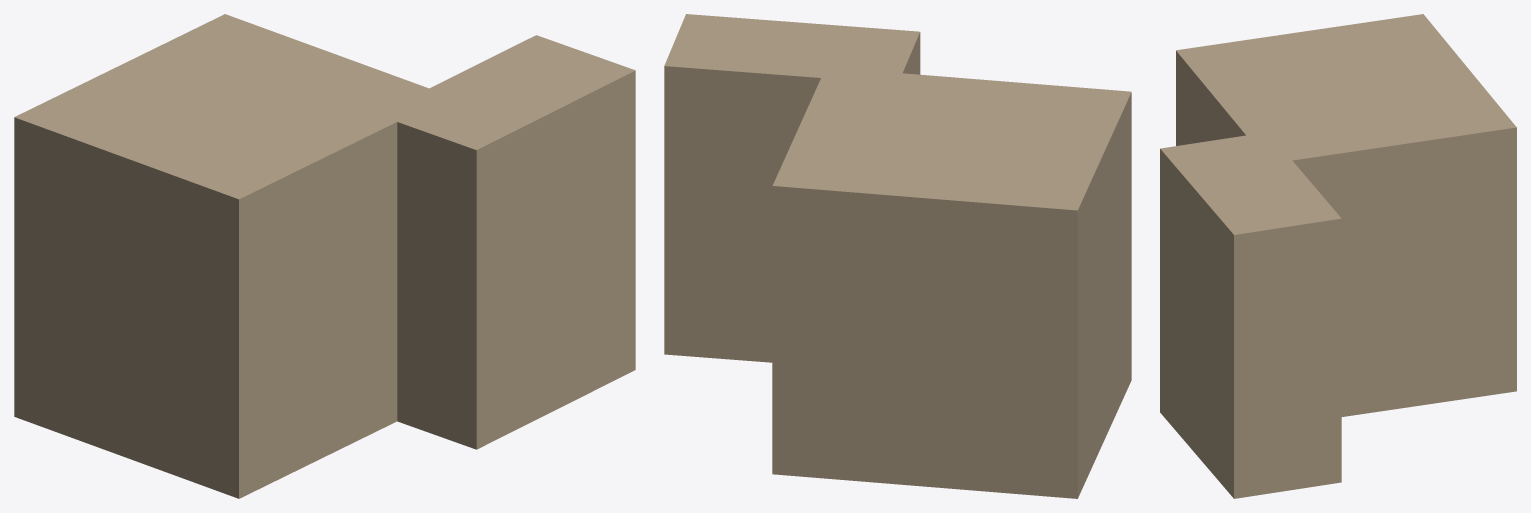
Rendered from bld_108162066.dae.
3 views of the same model, side by side, from view 1: azimuth 30°, elevation 25°; view 2: azimuth 150°, elevation 25°; view 3: azimuth 270°, elevation 25° (orthographic). The views are drawn at different scales.
Visible parts, largest first — view 1: bld_108162066; view 2: bld_108162066; view 3: bld_108162066.
Part boxes in pixels (x1,y1,x2,y2): bld_108162066: [14, 14, 635, 498]; bld_108162066: [664, 14, 1131, 498]; bld_108162066: [1160, 14, 1516, 498].
Bounding box in the file's own units: 14.37 × 9.8 × 8.
